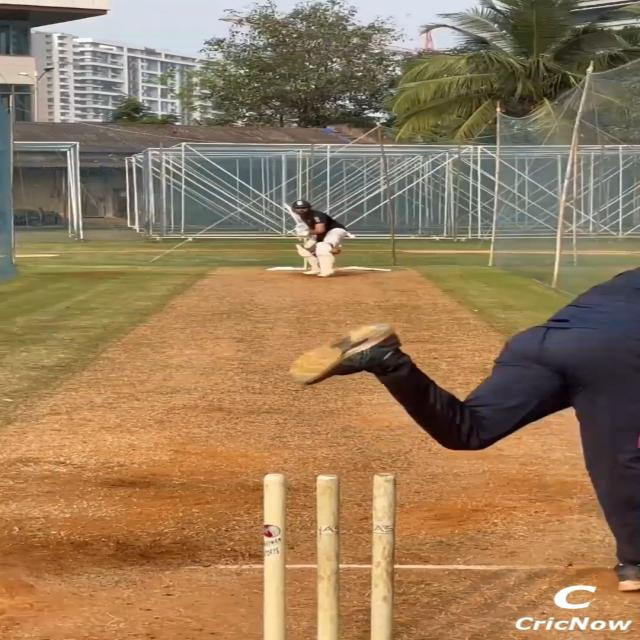ball: (328, 248, 342, 255)
stump: (262, 472, 396, 640)
